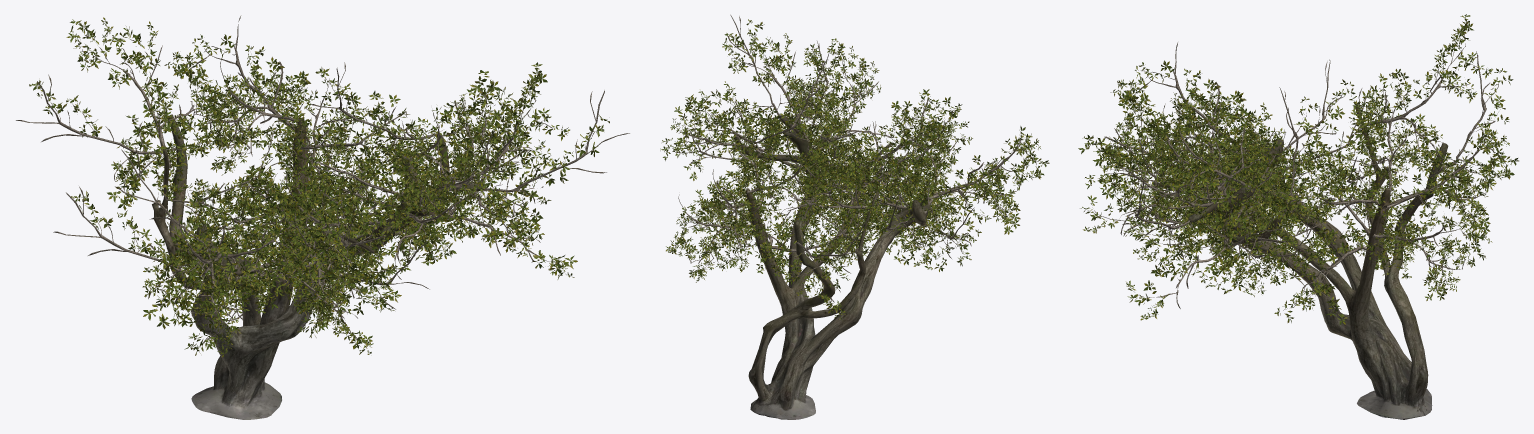
File: island_tree_02.glb
The picture shows the model from 3 angles, left to right: view 1: azimuth 30°, elevation 25°; view 2: azimuth 150°, elevation 25°; view 3: azimuth 270°, elevation 25°; orthographic projection. The views are drawn at different scales.
Parts seen in each view (by area): view 1: island_tree_02_LOD0; view 2: island_tree_02_LOD0; view 3: island_tree_02_LOD0.
Part boxes in pixels (x1,y1,x2,y2): island_tree_02_LOD0: (16, 15, 629, 419); island_tree_02_LOD0: (660, 14, 1049, 419); island_tree_02_LOD0: (1078, 14, 1518, 419).
Size of the model in its own units: 4.21 by 3.41 by 4.07.
3 materials, 3 textured.
